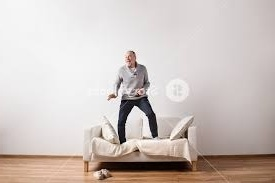not_fallen: (108, 47, 158, 148)
